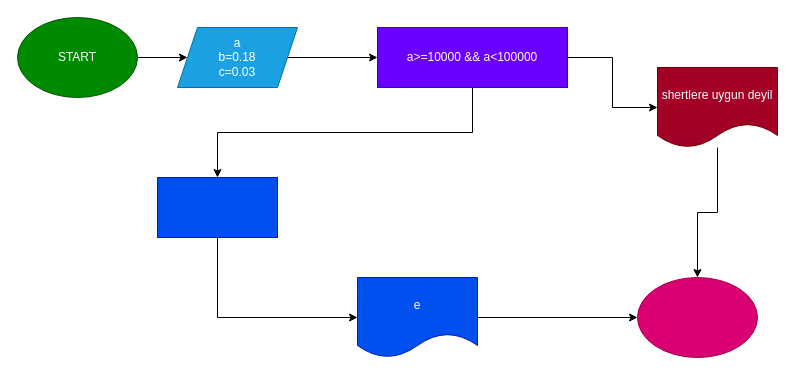
Image size: 795x375. Some labels were removed from this diagram. Here are the shapes that lost their labels. From the top down, the box of each, then its label:
(156, 176, 278, 238): d=a*b e=d*c
(636, 276, 758, 358): END
